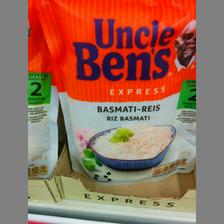Reis: (33, 0, 194, 184)
